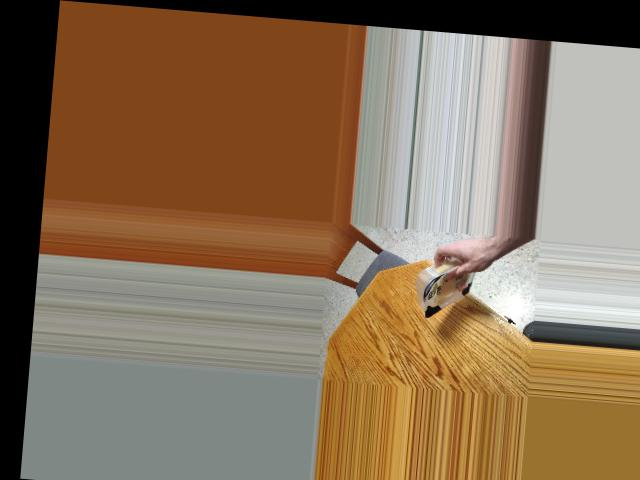cheese: (407, 257, 494, 319)
